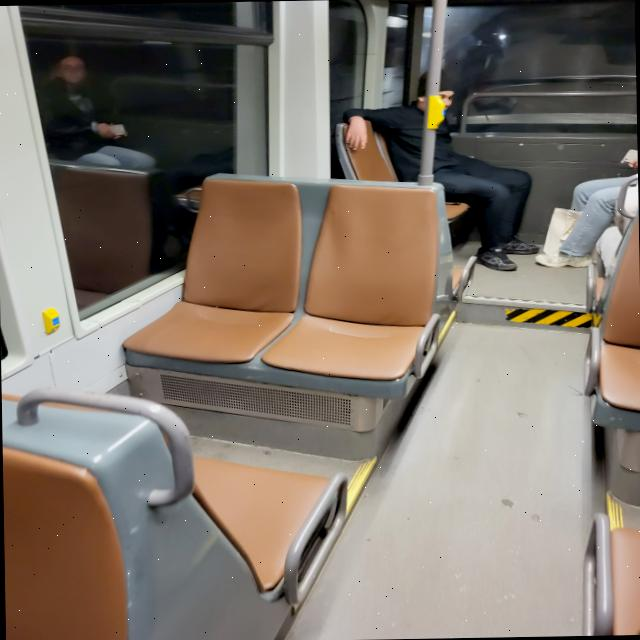empty-seat-frontal: (116, 178, 301, 377), (261, 180, 447, 376), (589, 177, 640, 430)
